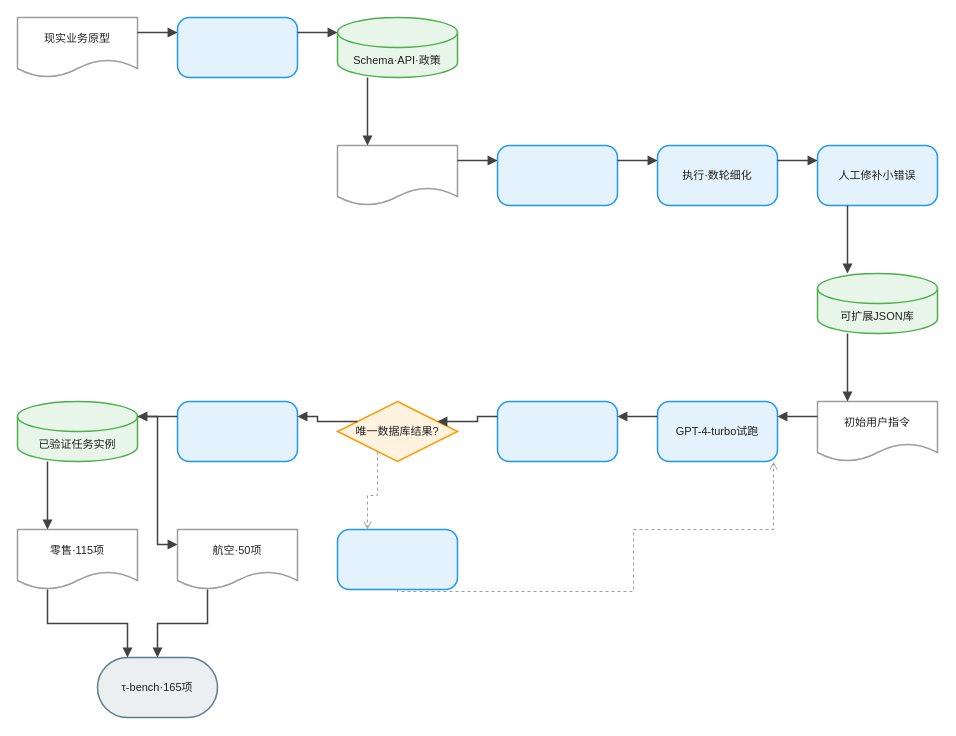
Image size: 956x736. Some labels were removed from this diagram. Each missing label, with the centre of its shape:
"GPT-4采样代码" goes at (557,175).
"人工协同设计" goes at (237,47).
"复制·编辑真值" goes at (237,431).
"检查对话轨迹" goes at (557,431).
"消歧并重写" goes at (397,559).
"示例数据条目" goes at (397,175).
